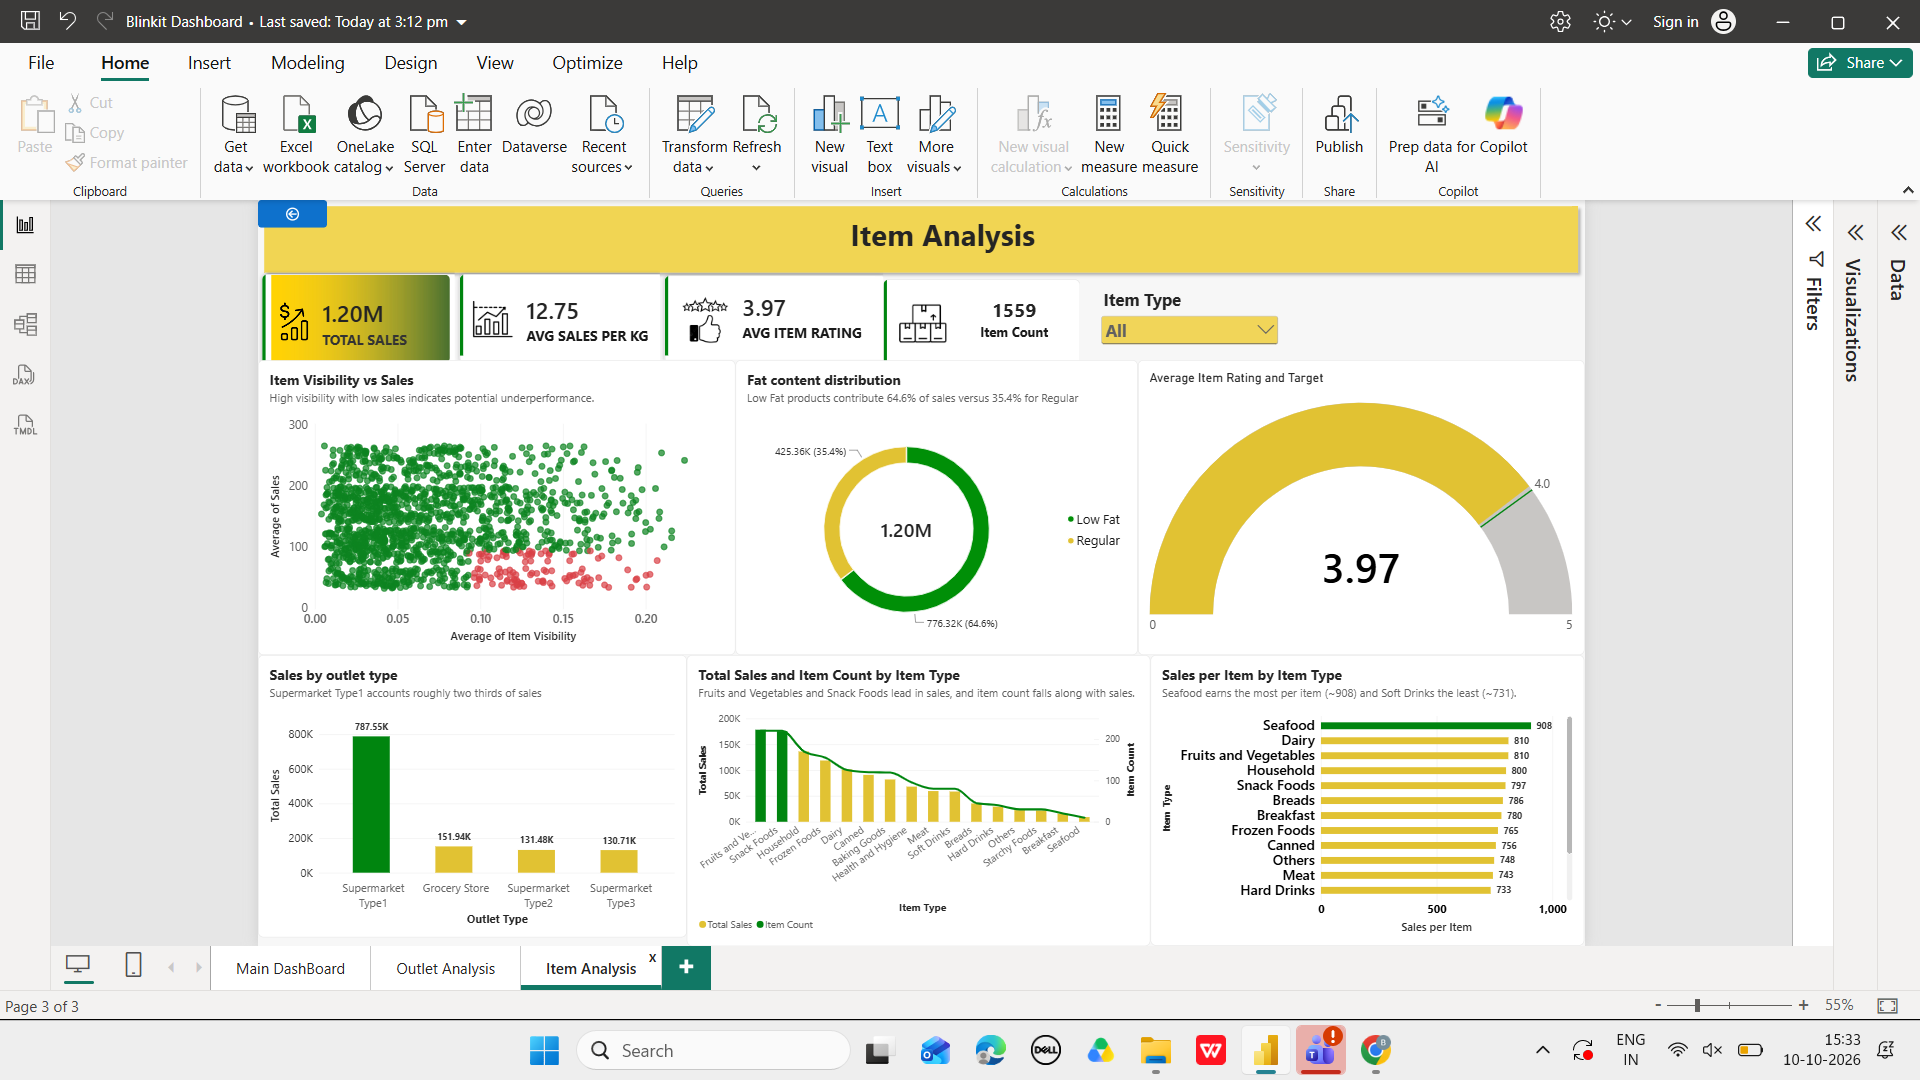

Layout of this report page (visuals, bound fields, positions):
{"tool":"powerbi","page":{"name":"Item Analysis","canvas":[1920,1080],"ordinal":2},"visuals":[{"type":"shape","box":[0,0,1920.1,114],"z":0},{"type":"textbox","box":[857.8,19.9,285.9,74.2],"z":1000},{"type":"cardVisual","fields":{"Data":["BlinkIT Grocery Data.Total Sales"]},"box":[0,101.3,285.9,141.2],"z":2000},{"type":"cardVisual","fields":{"Data":["BlinkIT Grocery Data.Average Sales per Kg"]},"box":[285.9,101.3,296.8,130.3],"z":3000},{"type":"cardVisual","fields":{"Data":["BlinkIT Grocery Data.Average Item Rating"]},"box":[582.7,103.2,322.1,128.5],"z":4000},{"type":"cardVisual","fields":{"Data":["BlinkIT Grocery Data.Item Count"]},"box":[904.8,114,285.9,128.5],"z":5000},{"type":"scatterChart","title":"Item Visibility vs Sales","fields":{"Category":["BlinkIT Grocery Data.Item Identifier"],"X":["BlinkIT Grocery Data.Item Visibility"],"Y":["BlinkIT Grocery Data.Sales"]},"box":[0,231.6,691.3,427.1],"z":6000},{"type":"donutChart","title":"Fat content distribution","fields":{"Category":["Items Content.Item Fat Content"],"Y":["BlinkIT Grocery Data.Total Sales"]},"box":[691.3,231.6,582.7,427.1],"z":7000},{"type":"actionButton","box":[0,0,100,40],"z":8000},{"type":"gauge","fields":{"TargetValue":["BlinkIT Grocery Data.Target"],"Y":["BlinkIT Grocery Data.Average Item Rating"]},"box":[1274,231.6,646,427.1],"z":9000},{"type":"clusteredColumnChart","title":"Sales by outlet type","fields":{"Category":["Outlet Info.Outlet Type"],"Y":["Sum(BlinkIT Grocery Data.Sales)"]},"box":[0,658.7,620.7,409],"z":10000},{"type":"lineClusteredColumnComboChart","title":"Total Sales and Item Count by Item Type","fields":{"Category":["Items.Item Type"],"Y":["BlinkIT Grocery Data.Total Sales"],"Y2":["BlinkIT Grocery Data.Item Count"]},"box":[620.7,658.7,671.4,421.7],"z":11000},{"type":"barChart","title":"Sales per Item by Item Type","fields":{"Category":["Items.Item Type"],"Y":["BlinkIT Grocery Data.Sales per Item"]},"box":[1292.1,658.7,628,421],"z":12000},{"type":"slicer","fields":{"Values":["Items.Item Type"]},"box":[1216.1,128.5,265.4,101.3],"z":13000}]}

Visuals, with their boxes on the page's 1920x1080 design canvas (x1, y1, x2, y2). These are canvas units, not pixel positions in the 1920x1080 screenshot, which may show the page scaled, cropped or inside an application window:
shape: region(0, 0, 1920, 114)
textbox: region(858, 20, 1144, 94)
cardVisual - BlinkIT Grocery Data.Total Sales: region(0, 101, 286, 242)
cardVisual - BlinkIT Grocery Data.Average Sales per Kg: region(286, 101, 583, 232)
cardVisual - BlinkIT Grocery Data.Average Item Rating: region(583, 103, 905, 232)
cardVisual - BlinkIT Grocery Data.Item Count: region(905, 114, 1191, 242)
"Item Visibility vs Sales" scatterChart: region(0, 232, 691, 659)
"Fat content distribution" donutChart: region(691, 232, 1274, 659)
actionButton: region(0, 0, 100, 40)
gauge - BlinkIT Grocery Data.Target x BlinkIT Grocery Data.Average Item Rating: region(1274, 232, 1920, 659)
"Sales by outlet type" clusteredColumnChart: region(0, 659, 621, 1068)
"Total Sales and Item Count by Item Type" lineClusteredColumnComboChart: region(621, 659, 1292, 1080)
"Sales per Item by Item Type" barChart: region(1292, 659, 1920, 1080)
slicer - Items.Item Type: region(1216, 128, 1482, 230)
